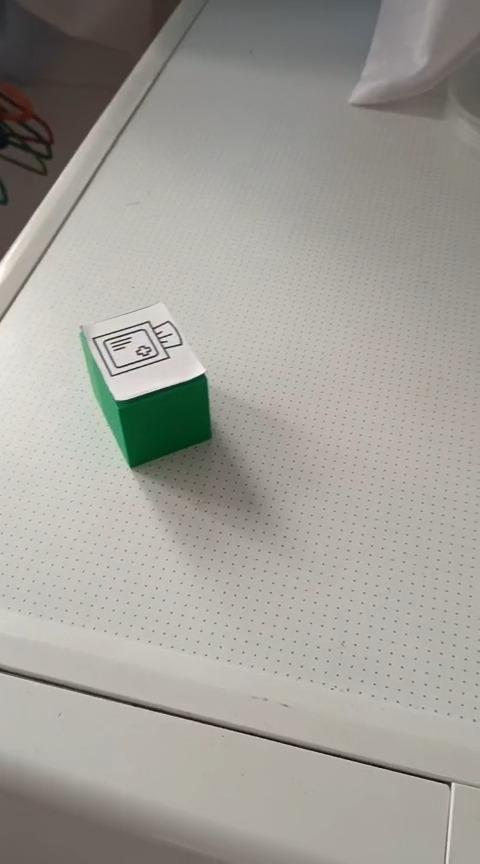Gauze: (77, 300, 213, 469)
